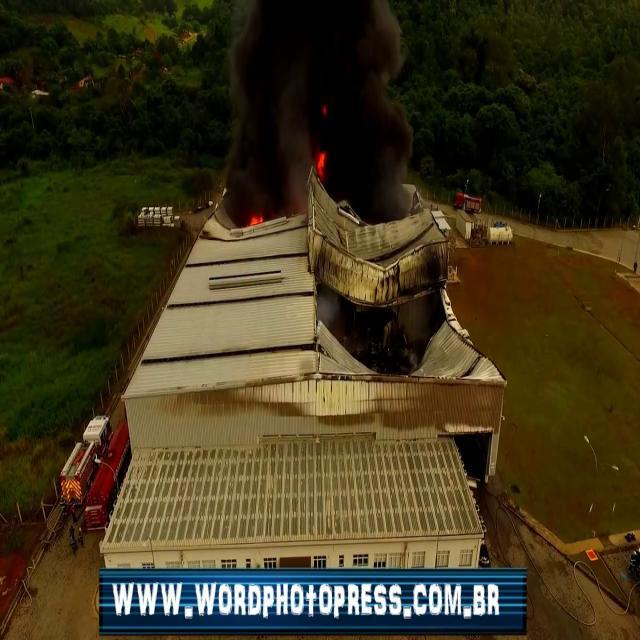Fire: (316, 151, 329, 181), (247, 212, 265, 229)
Smoke: (197, 15, 421, 228)
